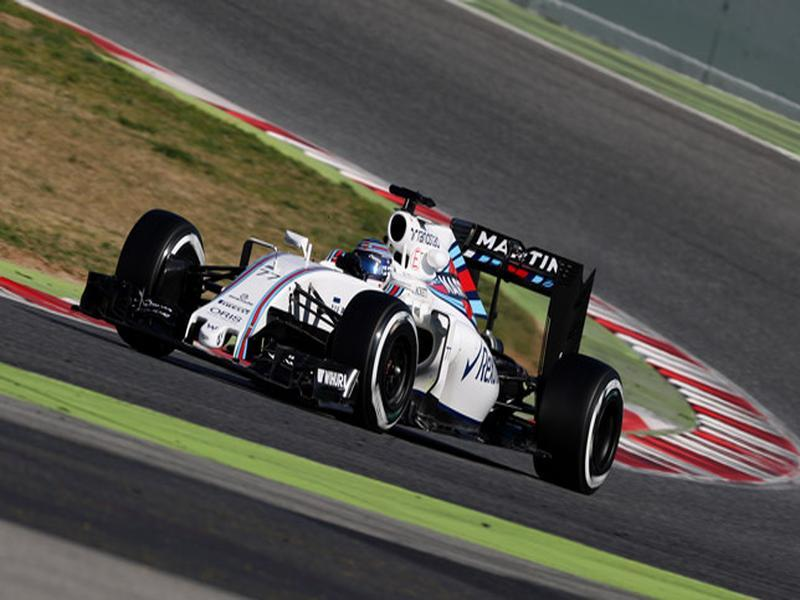f1: (111, 178, 627, 503)
